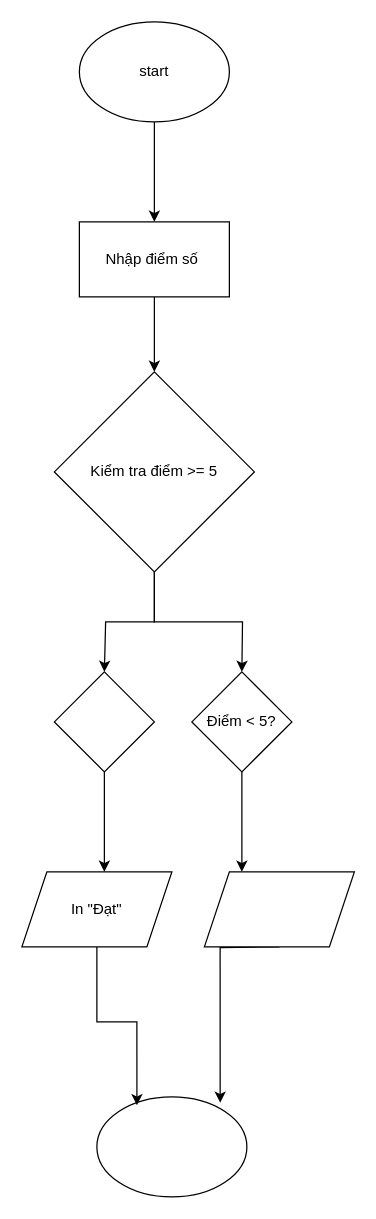
Some shapes in this 376 by 1219 pixel diagram are drawn without their labels. Here are the shapes that lost their labels. From the top down, the box of each, then its label:
(53, 671, 154, 772): Điểm >= 5 ?
(203, 871, 354, 947): In "Không đạt"
(96, 1096, 247, 1197): Kết thúc
